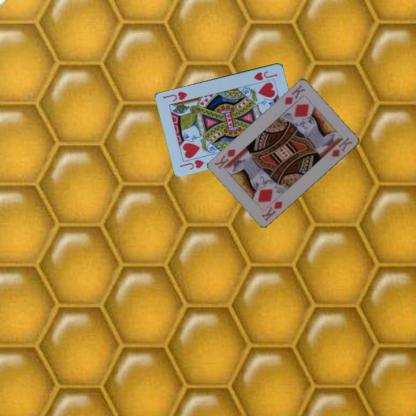Jh: (177, 156, 205, 170), (251, 68, 278, 82)
Kd: (258, 198, 284, 223), (282, 82, 307, 106)
